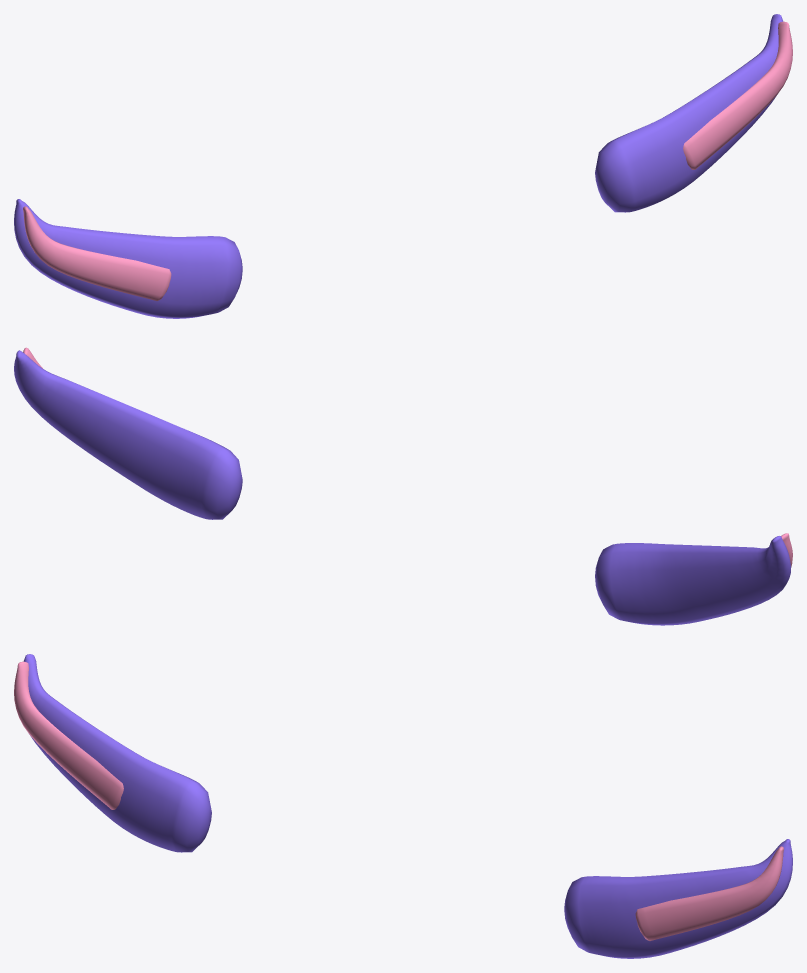
File: ears-elf.glb
3 renders of one model, top to bottom at view 1: azimuth 30°, elevation 25°; view 2: azimuth 150°, elevation 25°; view 3: azimuth 330°, elevation 25°, orthographic.
Visible parts, largest first — view 1: ears-elf-mesh; view 2: ears-elf-mesh; view 3: ears-elf-mesh.
Boxes of the visible parts, x1,y1,x2,y2 form: ears-elf-mesh: (14,14,792,318); ears-elf-mesh: (14,347,792,625); ears-elf-mesh: (14,654,792,958).
Size of the model in its own units: 3.06 by 0.5349 by 0.24.
